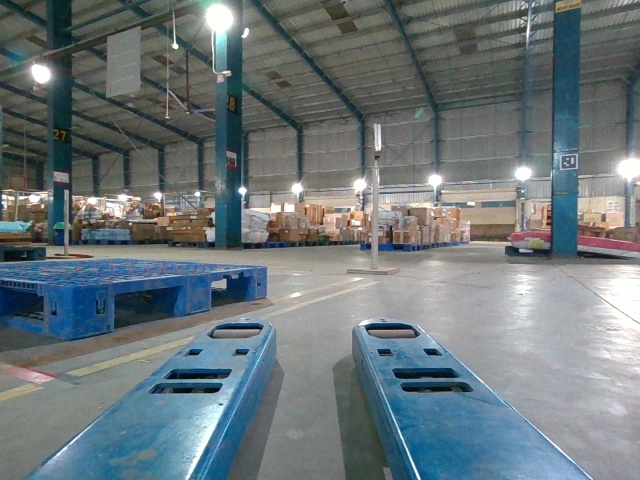block: (41, 282, 116, 340), (178, 271, 214, 316), (253, 264, 270, 299)
front: (73, 266, 267, 338)
hole pallet: (111, 280, 185, 330), (207, 273, 255, 308)
